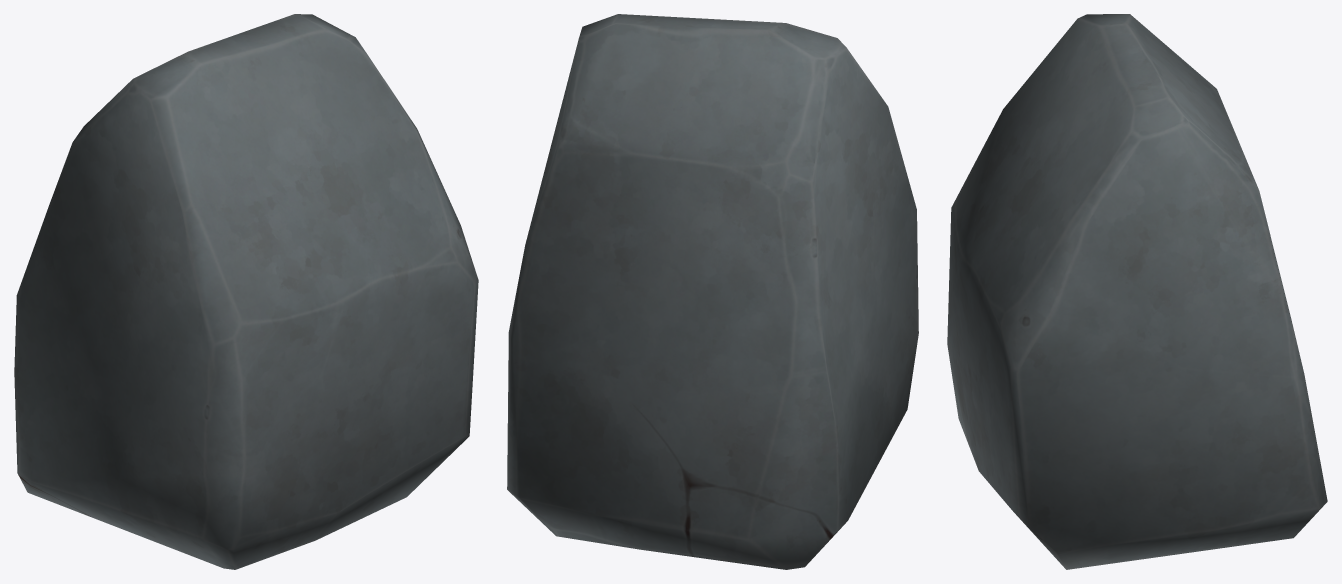
The model's file is rock.glb.
The picture shows the model from 3 angles, left to right: view 1: azimuth 30°, elevation 25°; view 2: azimuth 150°, elevation 25°; view 3: azimuth 270°, elevation 25°; orthographic projection. The views are drawn at different scales.
Visible parts, largest first — view 1: rock; view 2: rock; view 3: rock.
Boxes of the visible parts, x1,y1,x2,y2 form: rock: [14, 14, 478, 569]; rock: [507, 14, 918, 569]; rock: [947, 14, 1327, 569].
Bounding box in the file's own units: 0.1812 × 0.2286 × 0.1725.
Materials: 1 (1 with a texture image).
